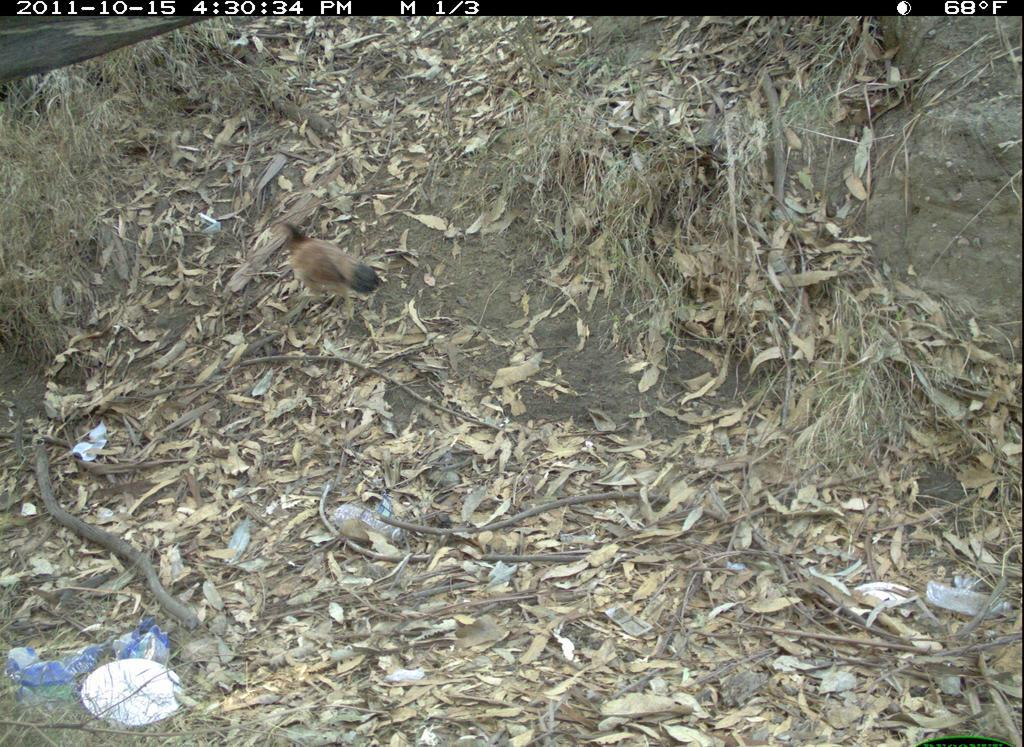bird: (274, 210, 381, 323)
